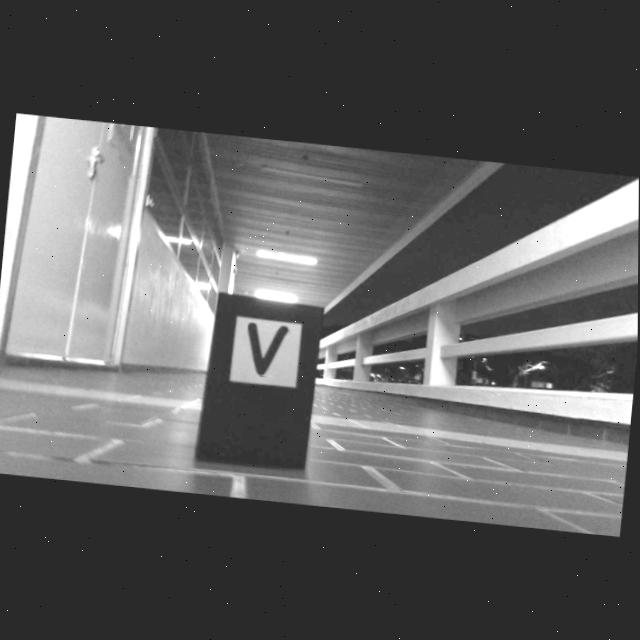V: (248, 322, 289, 375)
